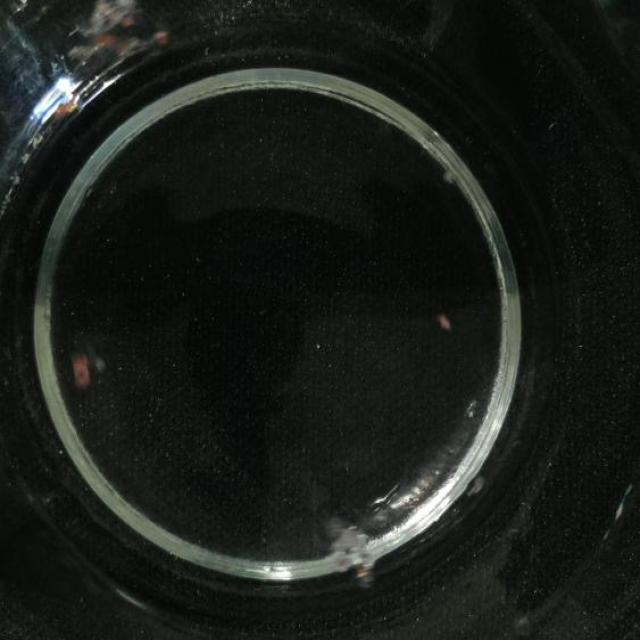fiber: (324, 515, 395, 594), (71, 347, 109, 390), (440, 307, 455, 338)
